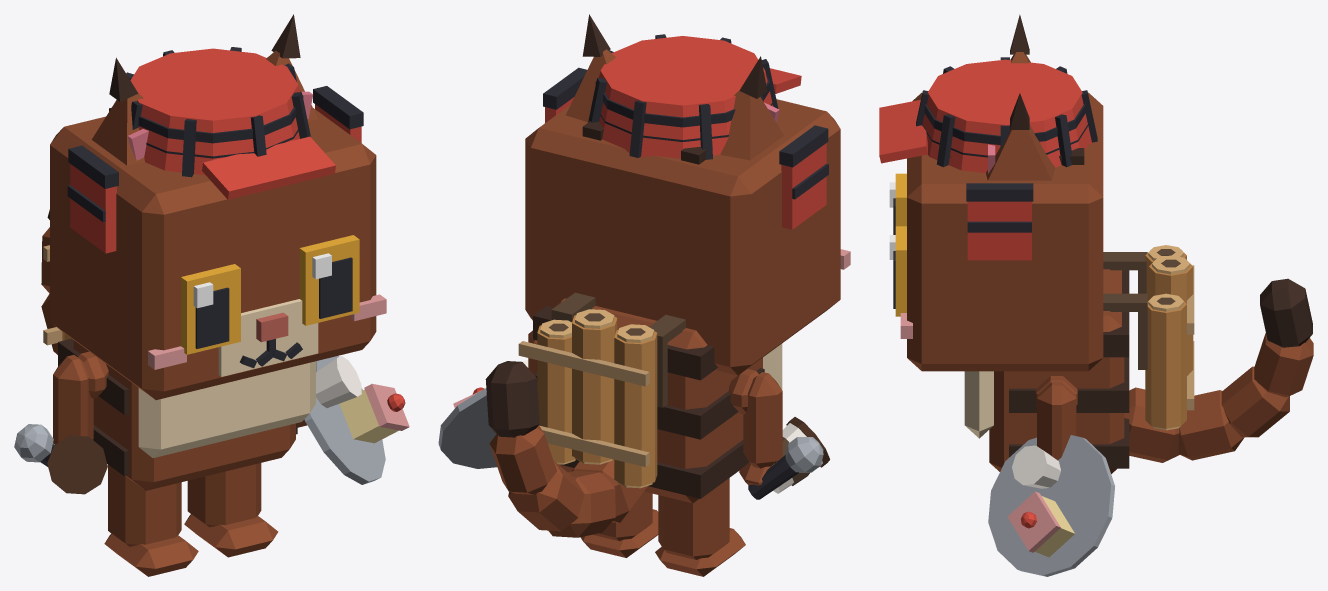
Rendered from CatCafe_Cat_ForestCat_Work.glb.
The picture shows the model from 3 angles, left to right: view 1: azimuth 30°, elevation 25°; view 2: azimuth 150°, elevation 25°; view 3: azimuth 270°, elevation 25°; orthographic projection. The views are drawn at different scales.
Parts seen in each view (by area): view 1: CatCafe_Cat_ForestCat_Work_Head, CatCafe_Cat_ForestCat_Work_Prop, CatCafe_Cat_ForestCat_Work_Body, CatCafe_Cat_ForestCat_Work_Held_Waiter, CatCafe_Cat_ForestCat_Work_LegB2, CatCafe_Cat_ForestCat_Work_LegB1, CatCafe_Cat_ForestCat_Work_Eye1, CatCafe_Cat_ForestCat_Work_Eye2, CatCafe_Cat_ForestCat_Work_EarR, CatCafe_Cat_ForestCat_Work_LegF2, CatCafe_Cat_ForestCat_Work_Held_Barista, CatCafe_Cat_ForestCat_Work_EarL (+2 smaller); view 2: CatCafe_Cat_ForestCat_Work_Head, CatCafe_Cat_ForestCat_Work_Prop, CatCafe_Cat_ForestCat_Work_Prop2, CatCafe_Cat_ForestCat_Work_Body, CatCafe_Cat_ForestCat_Work_Tail, CatCafe_Cat_ForestCat_Work_LegB2, CatCafe_Cat_ForestCat_Work_LegF2, CatCafe_Cat_ForestCat_Work_EarR, CatCafe_Cat_ForestCat_Work_Held_Waiter, CatCafe_Cat_ForestCat_Work_LegB1, CatCafe_Cat_ForestCat_Work_Held_Entertainer, CatCafe_Cat_ForestCat_Work_EarL (+1 smaller); view 3: CatCafe_Cat_ForestCat_Work_Head, CatCafe_Cat_ForestCat_Work_Prop, CatCafe_Cat_ForestCat_Work_Tail, CatCafe_Cat_ForestCat_Work_Held_Waiter, CatCafe_Cat_ForestCat_Work_Body, CatCafe_Cat_ForestCat_Work_Prop2, CatCafe_Cat_ForestCat_Work_EarL, CatCafe_Cat_ForestCat_Work_LegF1, CatCafe_Cat_ForestCat_Work_Eye1, CatCafe_Cat_ForestCat_Work_Eye2, CatCafe_Cat_ForestCat_Work_EarR.
Boxes of the visible parts, bbox=[...] form: CatCafe_Cat_ForestCat_Work_Head: bbox=[50, 107, 386, 399]; CatCafe_Cat_ForestCat_Work_Prop: bbox=[67, 47, 363, 253]; CatCafe_Cat_ForestCat_Work_Body: bbox=[58, 338, 315, 490]; CatCafe_Cat_ForestCat_Work_Held_Waiter: bbox=[304, 355, 409, 484]; CatCafe_Cat_ForestCat_Work_LegB2: bbox=[104, 465, 198, 576]; CatCafe_Cat_ForestCat_Work_LegB1: bbox=[184, 463, 278, 557]; CatCafe_Cat_ForestCat_Work_Eye1: bbox=[299, 235, 359, 325]; CatCafe_Cat_ForestCat_Work_Eye2: bbox=[181, 264, 240, 354]; CatCafe_Cat_ForestCat_Work_EarR: bbox=[91, 57, 148, 165]; CatCafe_Cat_ForestCat_Work_LegF2: bbox=[53, 355, 93, 444]; CatCafe_Cat_ForestCat_Work_Held_Barista: bbox=[47, 435, 107, 494]; CatCafe_Cat_ForestCat_Work_EarL: bbox=[266, 14, 317, 121]; CatCafe_Cat_ForestCat_Work_Head: bbox=[525, 99, 850, 375]; CatCafe_Cat_ForestCat_Work_Prop: bbox=[543, 34, 828, 229]; CatCafe_Cat_ForestCat_Work_Prop2: bbox=[518, 292, 685, 488]; CatCafe_Cat_ForestCat_Work_Body: bbox=[533, 298, 782, 503]; CatCafe_Cat_ForestCat_Work_Tail: bbox=[485, 361, 647, 537]; CatCafe_Cat_ForestCat_Work_LegB2: bbox=[655, 478, 745, 576]; CatCafe_Cat_ForestCat_Work_LegF2: bbox=[739, 372, 782, 485]; CatCafe_Cat_ForestCat_Work_EarR: bbox=[720, 56, 784, 160]; CatCafe_Cat_ForestCat_Work_Held_Waiter: bbox=[438, 360, 528, 468]; CatCafe_Cat_ForestCat_Work_LegB1: bbox=[580, 491, 658, 557]; CatCafe_Cat_ForestCat_Work_Held_Entertainer: bbox=[748, 437, 823, 499]; CatCafe_Cat_ForestCat_Work_EarL: bbox=[566, 14, 615, 122]; CatCafe_Cat_ForestCat_Work_Head: bbox=[900, 92, 1103, 371]; CatCafe_Cat_ForestCat_Work_Prop: bbox=[879, 57, 1097, 260]; CatCafe_Cat_ForestCat_Work_Tail: bbox=[1124, 278, 1313, 462]; CatCafe_Cat_ForestCat_Work_Held_Waiter: bbox=[988, 435, 1115, 576]; CatCafe_Cat_ForestCat_Work_Body: bbox=[964, 269, 1129, 473]; CatCafe_Cat_ForestCat_Work_Prop2: bbox=[1103, 245, 1194, 430]; CatCafe_Cat_ForestCat_Work_EarL: bbox=[986, 93, 1055, 180]; CatCafe_Cat_ForestCat_Work_LegF1: bbox=[1037, 382, 1076, 460]; CatCafe_Cat_ForestCat_Work_Eye1: bbox=[889, 226, 906, 316]; CatCafe_Cat_ForestCat_Work_Eye2: bbox=[889, 173, 906, 234]; CatCafe_Cat_ForestCat_Work_EarR: bbox=[1010, 14, 1030, 63].
Size of the model in its own units: 1.84 by 2.44 by 2.02.
1 material, 1 textured.
